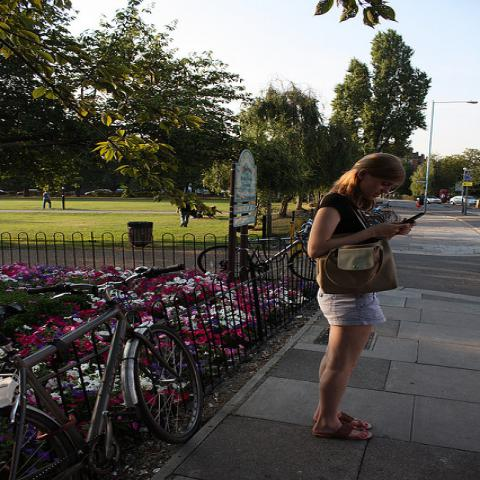car: (449, 196, 478, 206), (85, 190, 119, 196), (426, 196, 442, 204), (24, 191, 44, 196), (196, 189, 210, 196)
